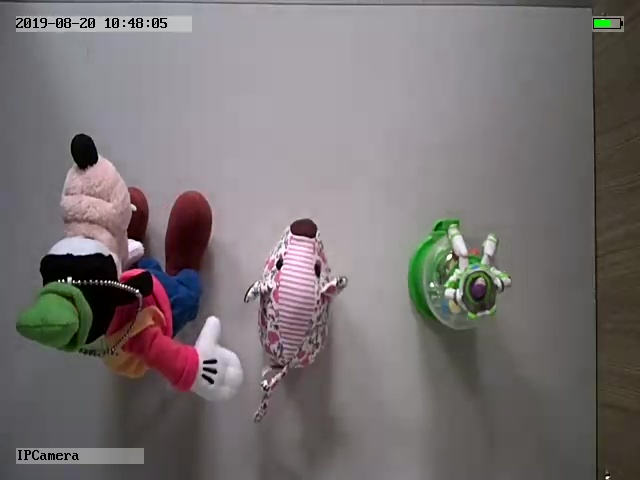buzz: (400, 214, 518, 340)
goofy: (16, 131, 245, 407)
pig: (242, 215, 348, 426)
